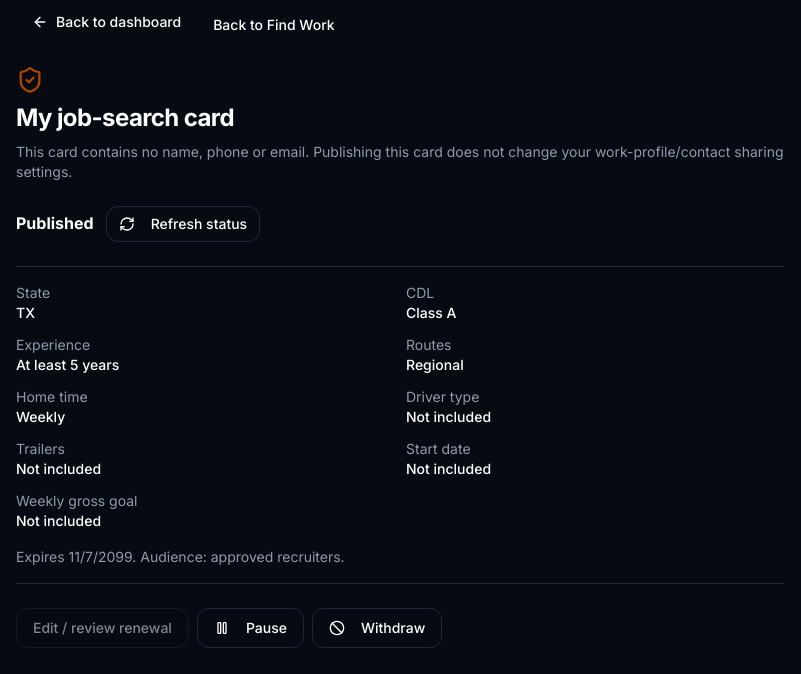
Scenario: revoked Driver can read and deliberately withdraw own existing card
Expected: the text "published" is shown, [16,211,94,237]
Expected: the button "Edit / review renewal" is disabled, [16,608,189,648]
Click the button "Withdraw".
click(377, 628)  # box [312,608,442,648]
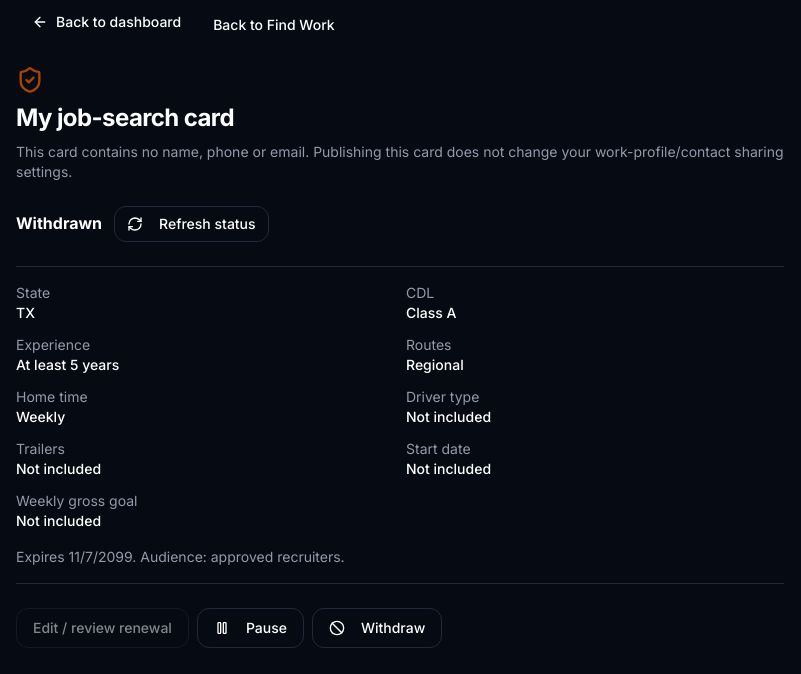
Now the text "withdrawn" is shown, box [16,211,102,237]
